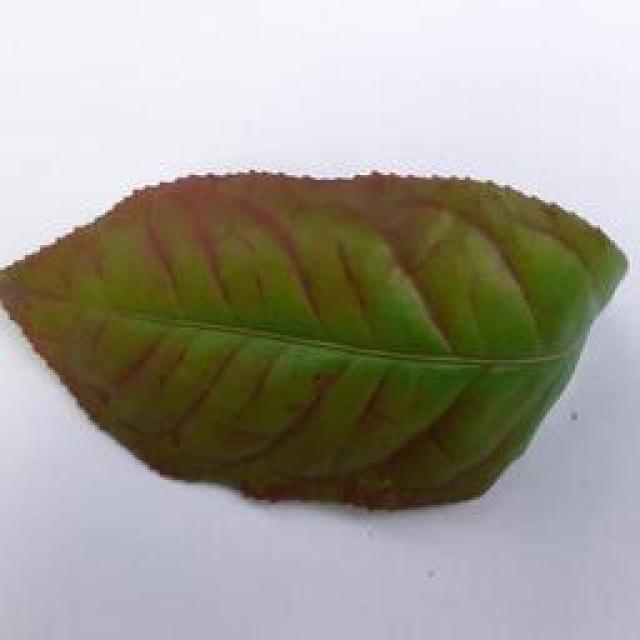Red Leaf Spot: (2, 128, 630, 512)
